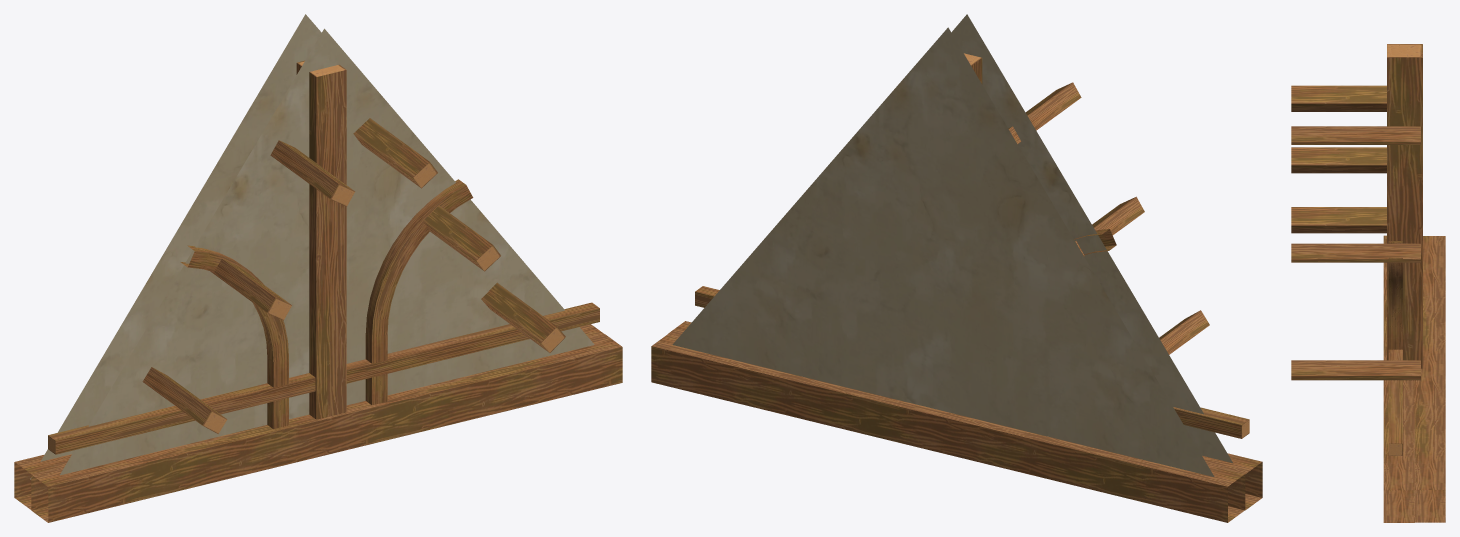
The model's file is Roof_Front_Brick4.glb.
3 renders of one model, left to right at view 1: azimuth 30°, elevation 25°; view 2: azimuth 150°, elevation 25°; view 3: azimuth 270°, elevation 25°, orthographic. The views are drawn at different scales.
Parts seen in each view (by area): view 1: Roof_Front_Brick4; view 2: Roof_Front_Brick4; view 3: Roof_Front_Brick4.
Boxes of the visible parts, x1,y1,x2,y2 form: Roof_Front_Brick4: (14, 14, 622, 522); Roof_Front_Brick4: (651, 14, 1262, 522); Roof_Front_Brick4: (1291, 44, 1445, 522).
Size of the model in its own units: 4.4 by 3.07 by 1.13.
2 materials, 2 textured.
